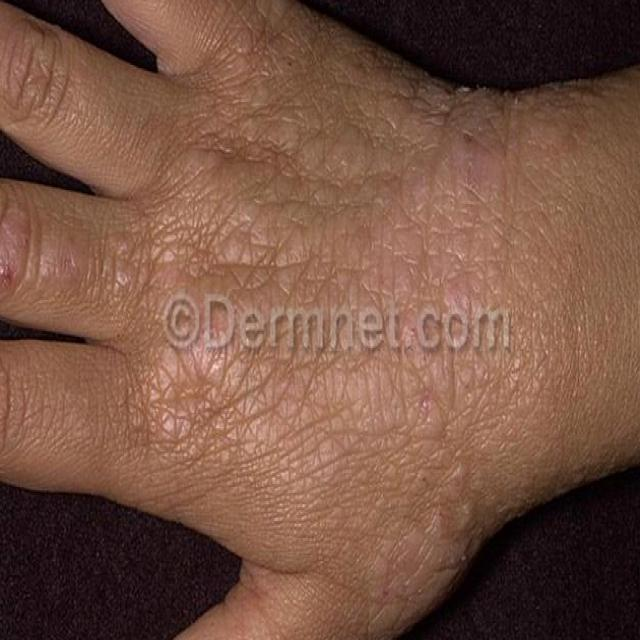Eczema: (128, 28, 533, 560)
